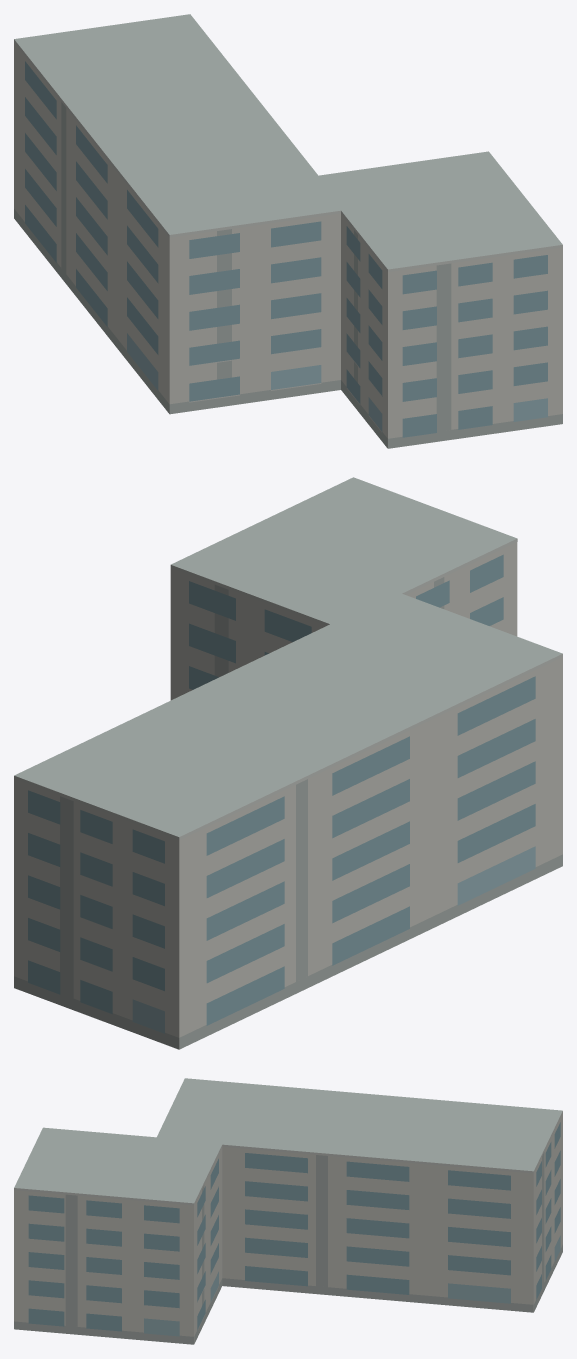
File: residential-fb96be0d-a1c1-4dee-b511-8cfdd856969a.glb
3 views of the same model, one above another, from view 1: azimuth 30°, elevation 25°; view 2: azimuth 150°, elevation 25°; view 3: azimuth 270°, elevation 25° (orthographic). The views are drawn at different scales.
Parts seen in each view (by area): view 1: residential-fb96be0d-a1c1-4dee-b511-8cfdd856969a.tmp; view 2: residential-fb96be0d-a1c1-4dee-b511-8cfdd856969a.tmp; view 3: residential-fb96be0d-a1c1-4dee-b511-8cfdd856969a.tmp.
Part boxes in pixels (box(x1,y1,x2,y2)): residential-fb96be0d-a1c1-4dee-b511-8cfdd856969a.tmp: box(14, 14, 562, 448); residential-fb96be0d-a1c1-4dee-b511-8cfdd856969a.tmp: box(14, 477, 562, 1049); residential-fb96be0d-a1c1-4dee-b511-8cfdd856969a.tmp: box(14, 1078, 562, 1344).
Bounding box in the file's own units: 28.95 × 15.25 × 53.66.
